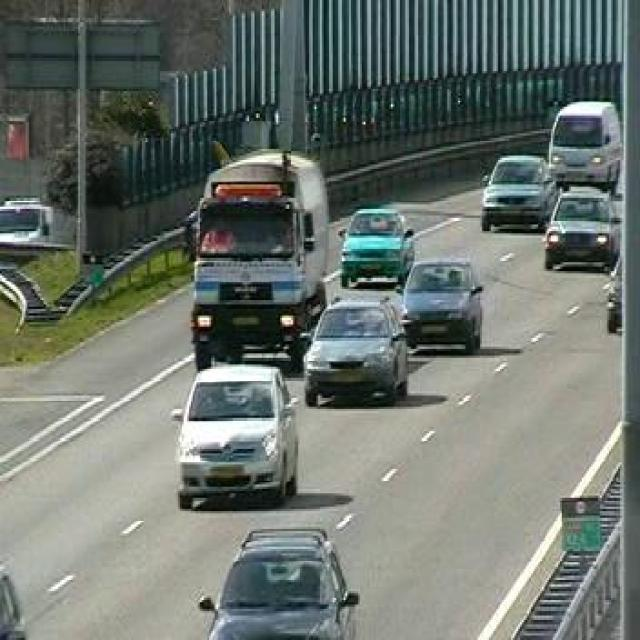other: (206, 160, 292, 216), (180, 409, 247, 454), (199, 360, 271, 388), (199, 227, 234, 263), (565, 97, 604, 118)
